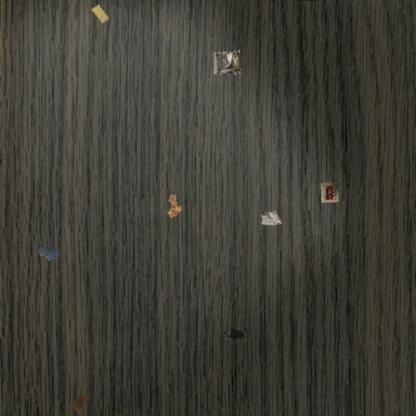dirty: (211, 49, 240, 75), (319, 179, 343, 205), (166, 192, 184, 219), (259, 209, 283, 228), (90, 3, 111, 24), (69, 392, 89, 414)
liquid: (37, 244, 59, 262), (222, 326, 246, 342)
